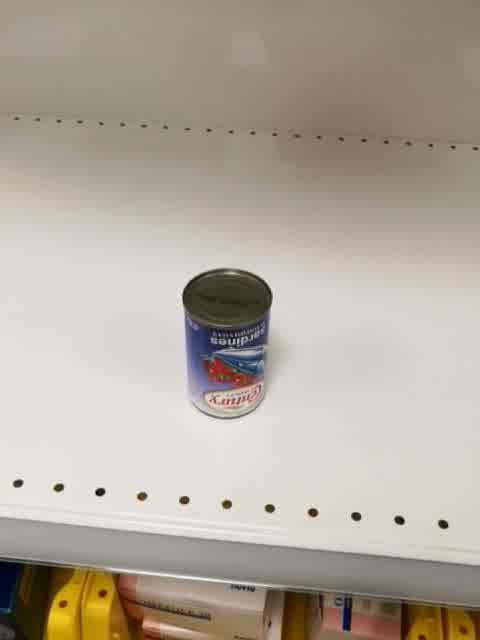sardine: (180, 268, 272, 421)
